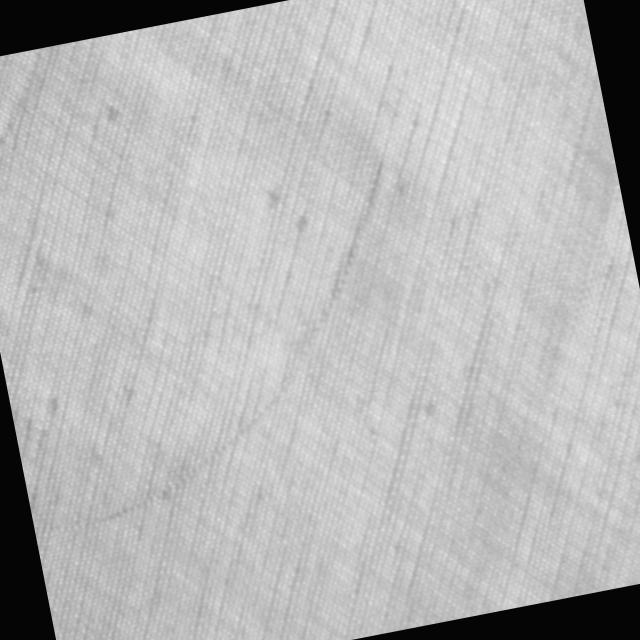objects: (34, 152, 450, 534)
